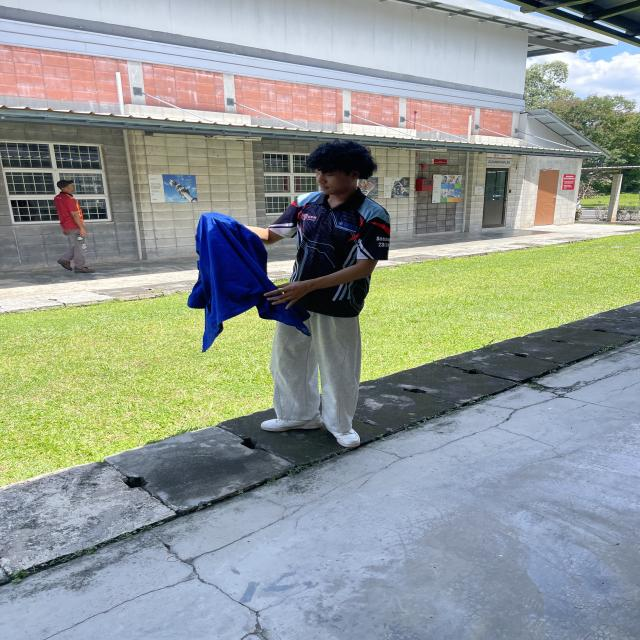person_without_labcoat: (187, 140, 390, 449)
